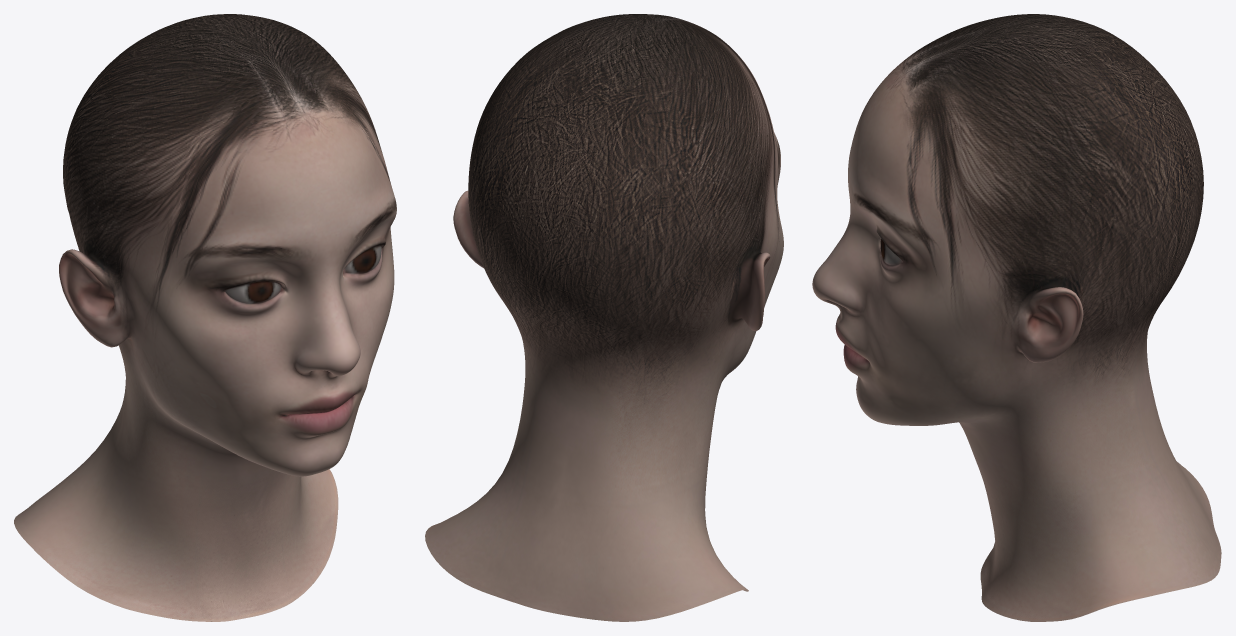
Rendered from head.glb.
The picture shows the model from 3 angles, left to right: view 1: azimuth 30°, elevation 25°; view 2: azimuth 150°, elevation 25°; view 3: azimuth 270°, elevation 25°; orthographic projection. The views are drawn at different scales.
Parts seen in each view (by area): view 1: tripo_node_4d478f52-5451-4180-934f-ed823cff2ad8; view 2: tripo_node_4d478f52-5451-4180-934f-ed823cff2ad8; view 3: tripo_node_4d478f52-5451-4180-934f-ed823cff2ad8.
Part boxes in pixels (bbox=[...]): tripo_node_4d478f52-5451-4180-934f-ed823cff2ad8: bbox=[14, 14, 396, 621]; tripo_node_4d478f52-5451-4180-934f-ed823cff2ad8: bbox=[425, 14, 783, 621]; tripo_node_4d478f52-5451-4180-934f-ed823cff2ad8: bbox=[812, 14, 1221, 621].
Size of the model in its own units: 0.5735 by 1 by 0.66.
1 material, 1 textured.
